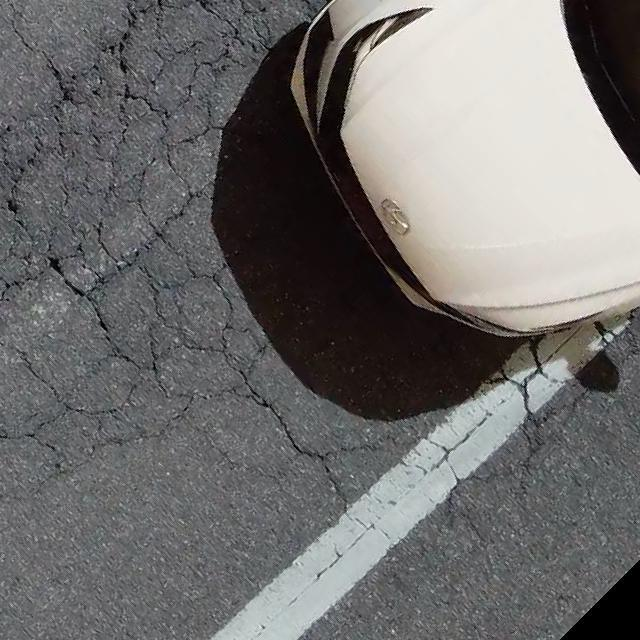PIEL DE COCODRILO: (0, 0, 639, 549)
